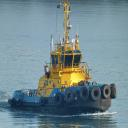tugboat: (9, 2, 119, 119)
